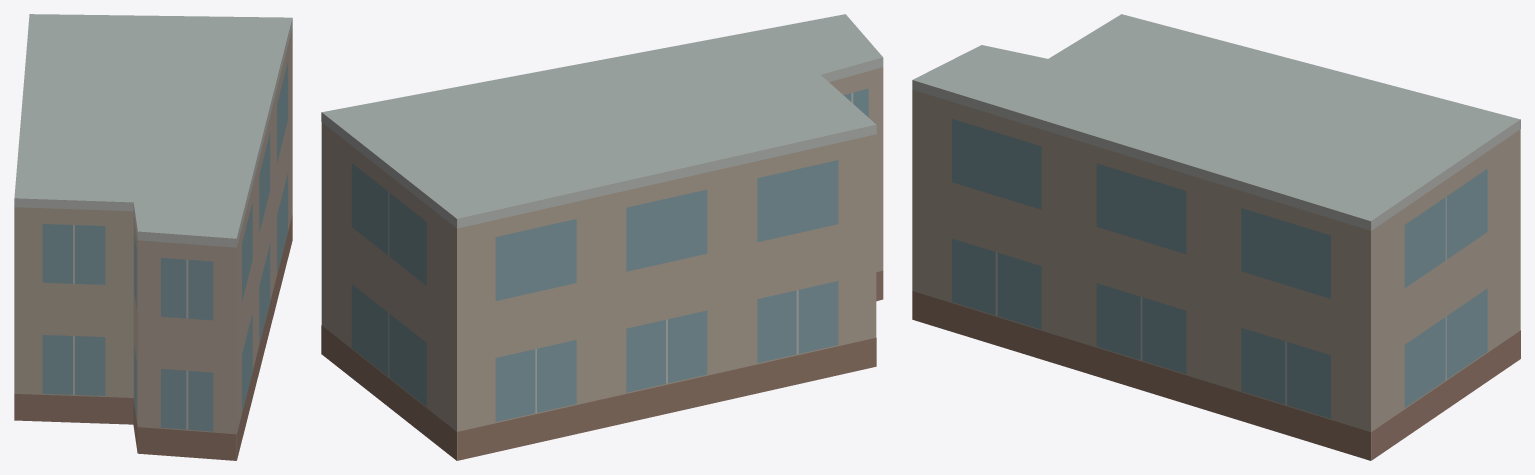
Rendered from survey-upis-32941301.glb.
3 renders of one model, left to right at view 1: azimuth 30°, elevation 25°; view 2: azimuth 150°, elevation 25°; view 3: azimuth 270°, elevation 25°, orthographic. The views are drawn at different scales.
Parts seen in each view (by area): view 1: survey-upis-32941301.tmp; view 2: survey-upis-32941301.tmp; view 3: survey-upis-32941301.tmp.
Boxes of the visible parts, <box> form: survey-upis-32941301.tmp: <box>14,14,292,460</box>; survey-upis-32941301.tmp: <box>321,14,883,460</box>; survey-upis-32941301.tmp: <box>912,14,1520,460</box>.
Size of the model in its own units: 11.33 by 6.1 by 14.05.
